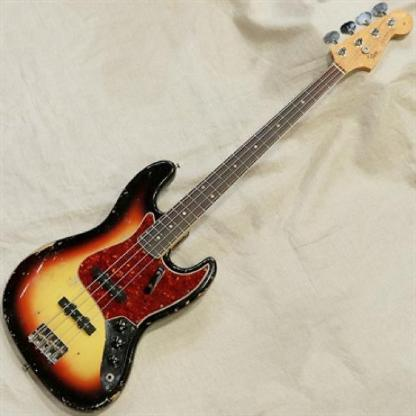bass: (1, 1, 414, 413)
